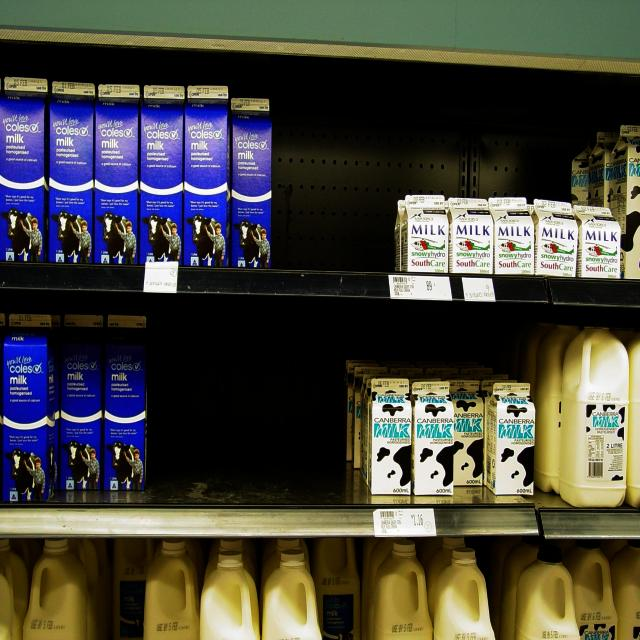empty_space: (162, 314, 338, 488), (281, 89, 385, 253)
